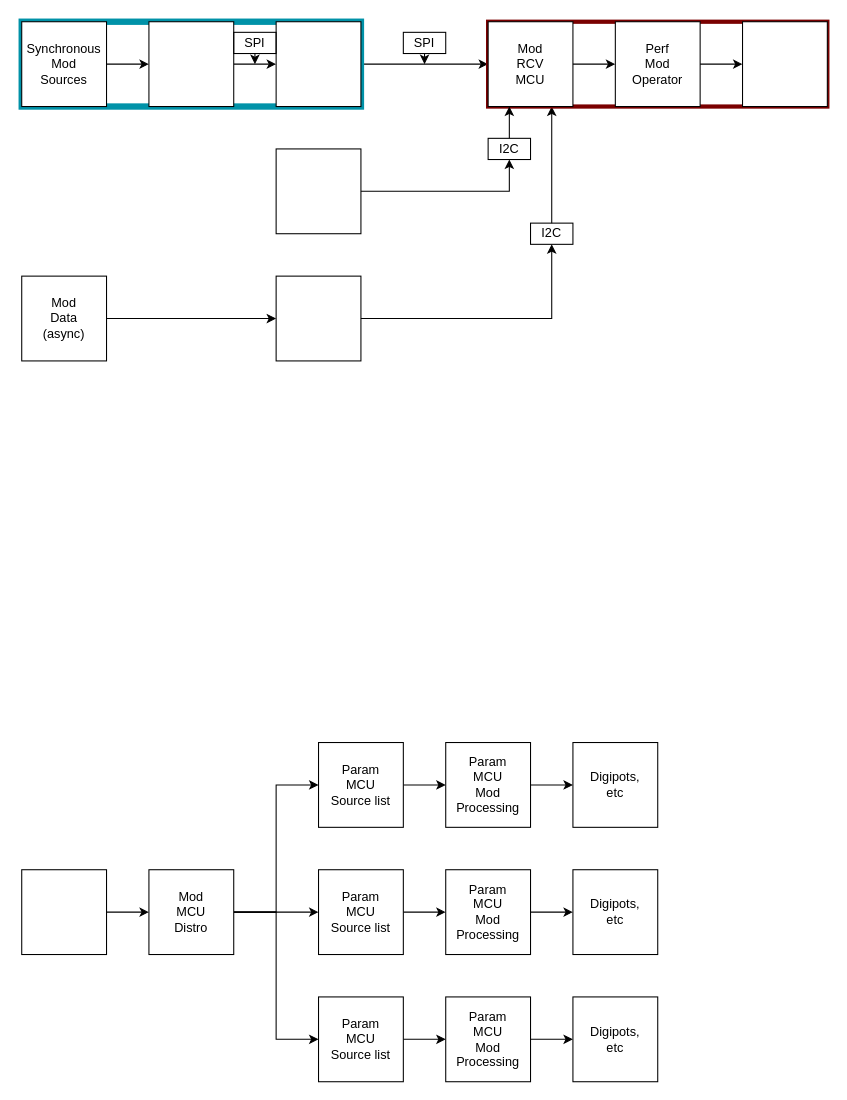
Image size: 847x1100. Some labels were removed from this diagram. The box of each missing label's shape, as (x1, y1, x2, y2) in pixels:
ADC: (148, 21, 234, 107)
Async Mod Sources: (275, 148, 361, 234)
DAC: (741, 21, 827, 107)
Master MCU: (275, 275, 361, 361)
Mod Data BCast MCU: (275, 21, 361, 107)
OSC MOD Broadcast: (21, 869, 107, 955)
